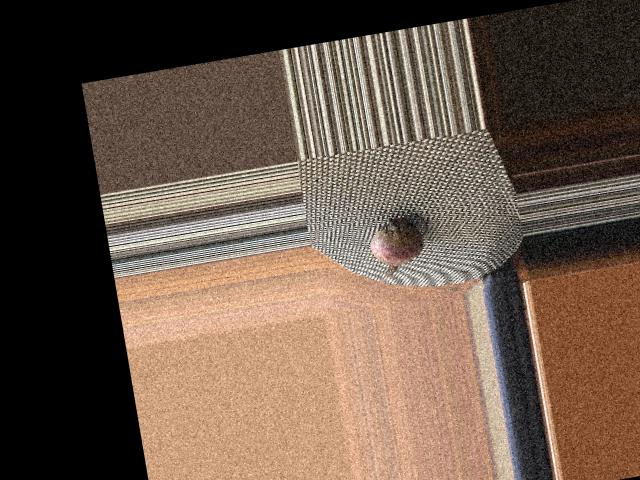beet: (357, 210, 436, 286)
